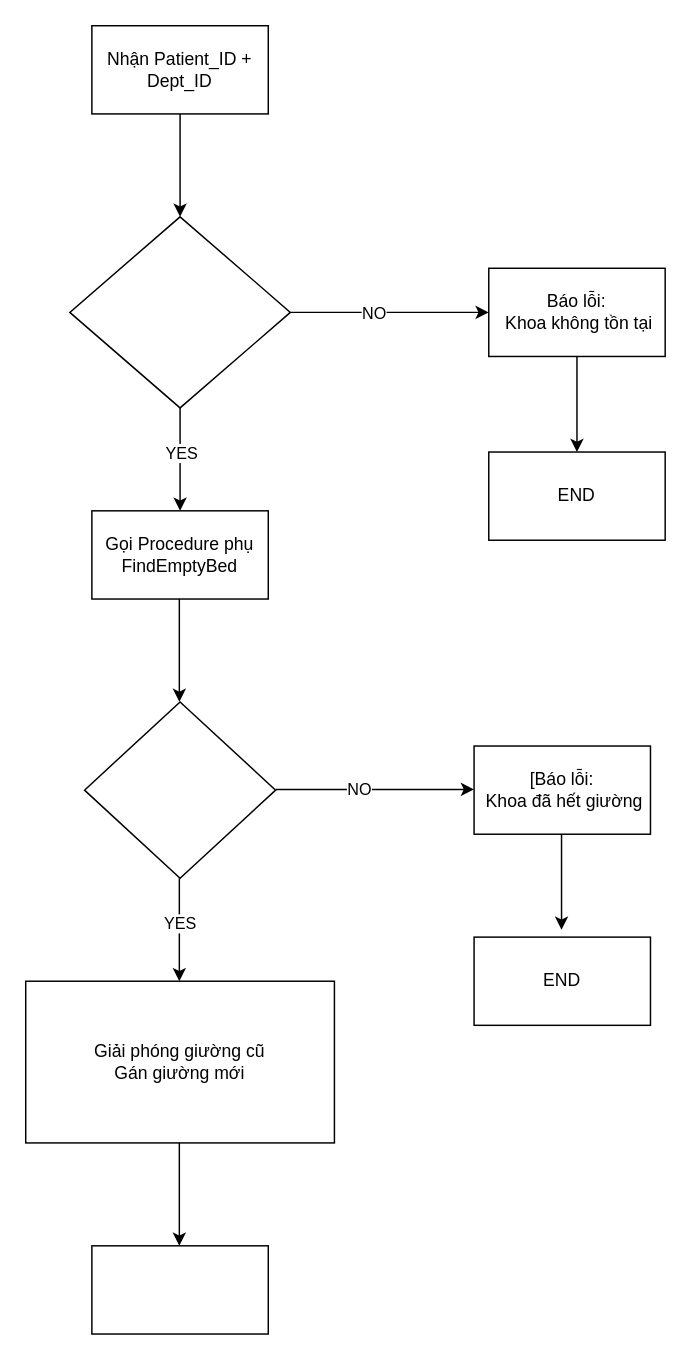
This 691x1360 diagram has some shape labels left out. The centre of each missing label's shape, as x and y in pixels:
"Có giường trống?" belongs at (179,789).
"Kiểm tra Dept_ID tồn tại?" belongs at (179,311).
"Trả mã giường mới + thông báo thành côn" belongs at (179,1289).
